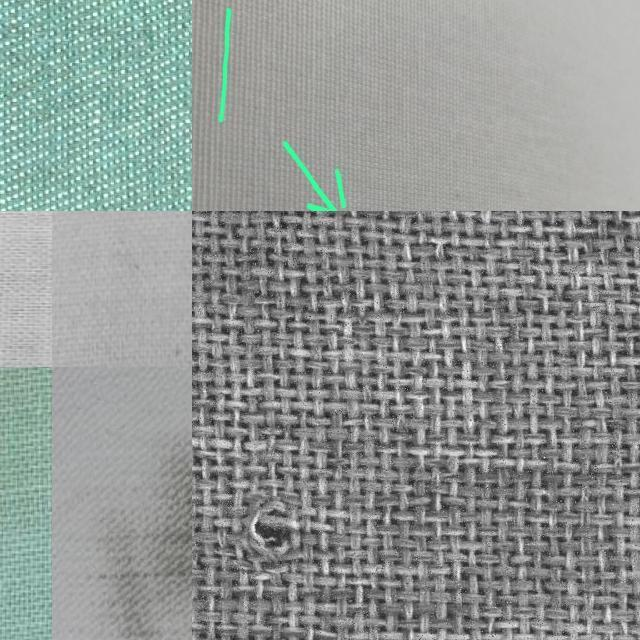Thread_other: (54, 389, 192, 640)
other: (246, 496, 300, 556)
